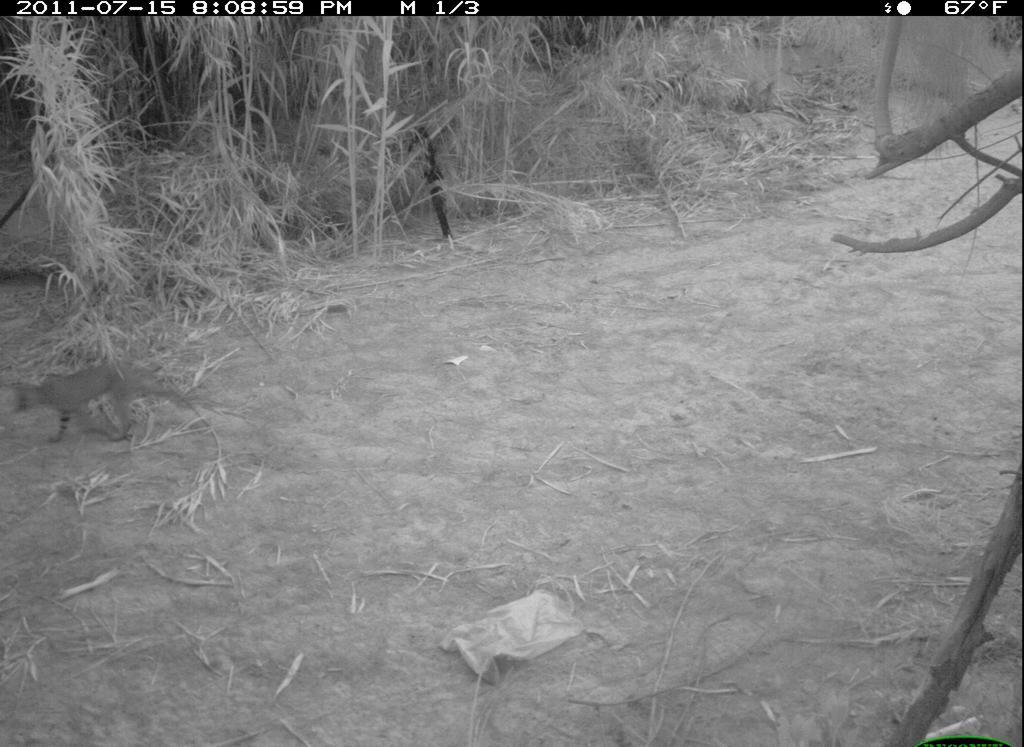bobcat: (11, 358, 210, 465)
